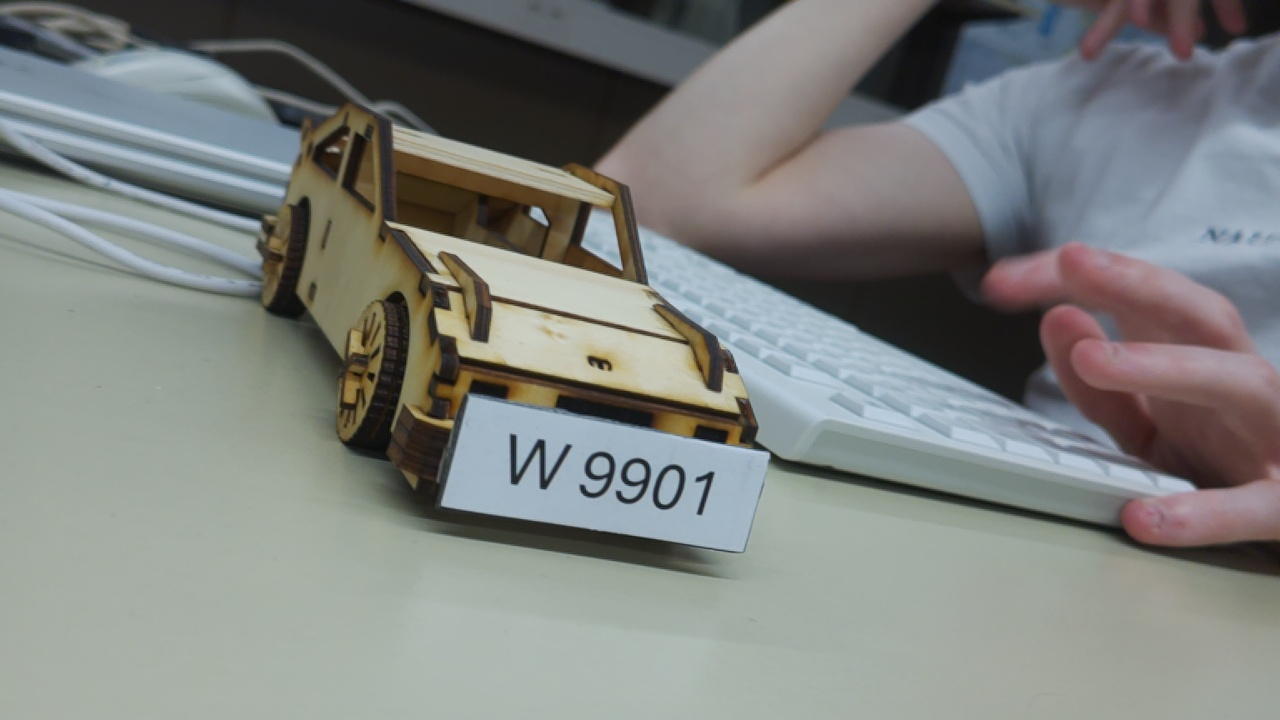license_plate: (437, 389, 772, 559)
